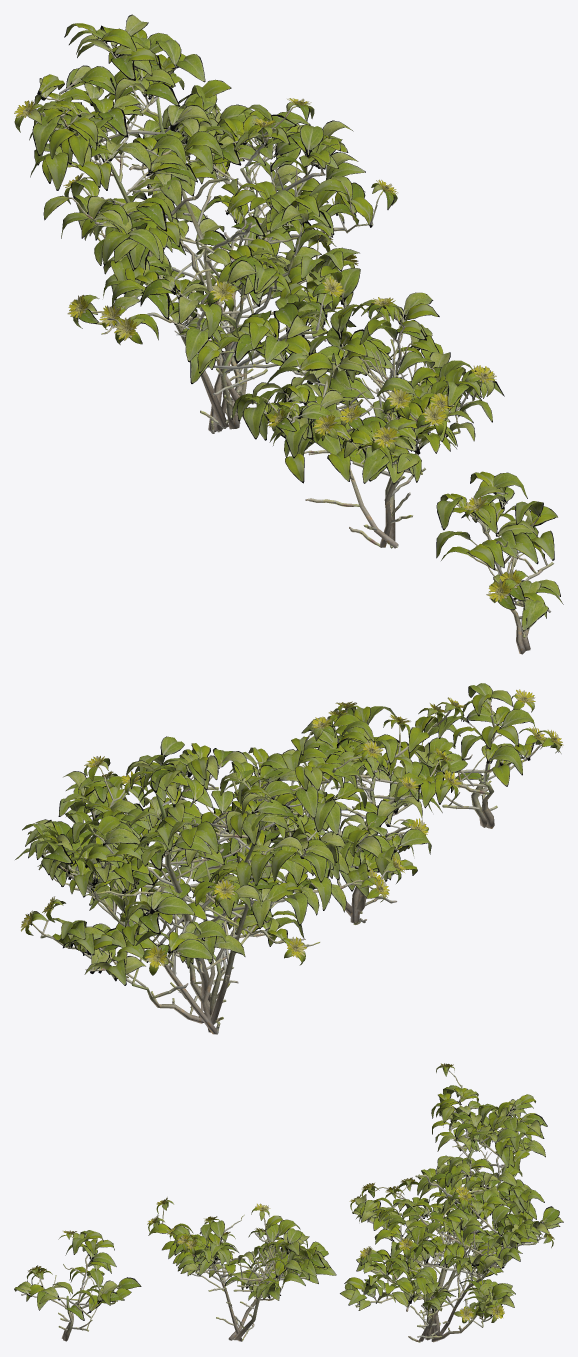
File: ph_didelta_spinosa.glb
The picture shows the model from 3 angles, top to bottom: view 1: azimuth 30°, elevation 25°; view 2: azimuth 150°, elevation 25°; view 3: azimuth 270°, elevation 25°; orthographic projection. The views are drawn at different scales.
Visible parts, largest first — view 1: ph_didelta_spinosa; view 2: ph_didelta_spinosa; view 3: ph_didelta_spinosa.
Part boxes in pixels (bbox=[...]): ph_didelta_spinosa: bbox=[14, 14, 563, 654]; ph_didelta_spinosa: bbox=[15, 683, 563, 1034]; ph_didelta_spinosa: bbox=[14, 1063, 563, 1342].
Size of the model in its own units: 2.12 by 2.07 by 4.56.
1 material, 1 textured.
